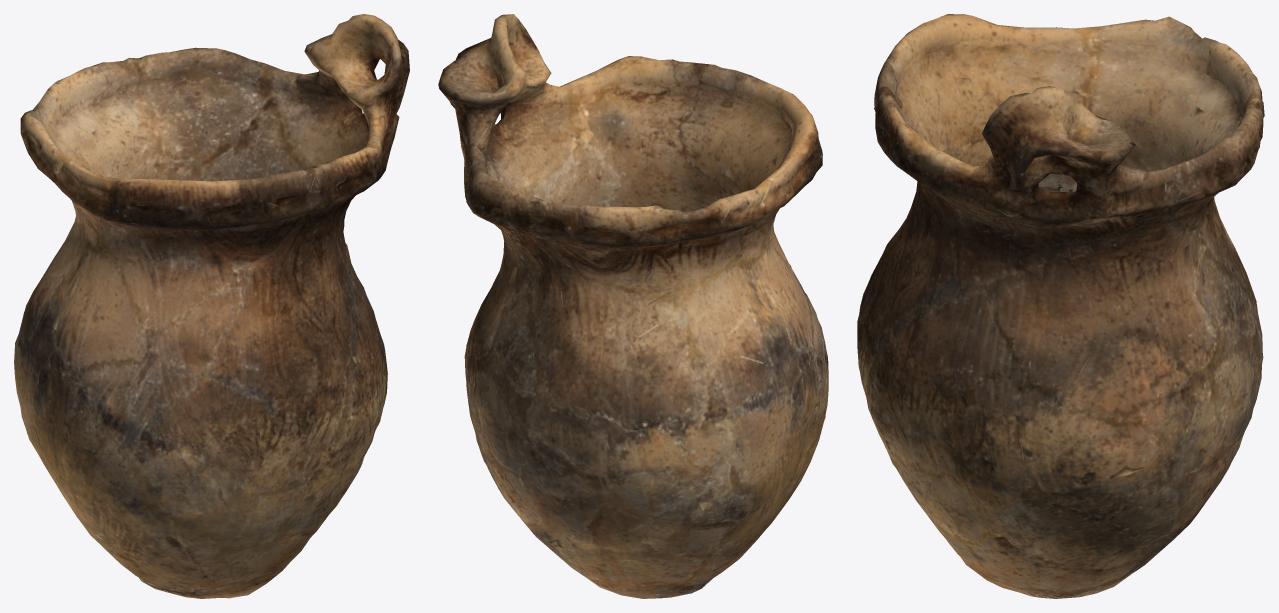
3 views of the same model, side by side, from view 1: azimuth 30°, elevation 25°; view 2: azimuth 150°, elevation 25°; view 3: azimuth 270°, elevation 25° (orthographic). The views are drawn at different scales.
Parts seen in each view (by area): view 1: IN0104_low; view 2: IN0104_low; view 3: IN0104_low.
Boxes of the visible parts, box(x1,y1,x2,y2) form: IN0104_low: box(14, 14, 409, 598); IN0104_low: box(438, 14, 828, 598); IN0104_low: box(857, 14, 1264, 598).
Bounding box in the file's own units: 227 × 320 × 208.
Materials: 1 (1 with a texture image).
